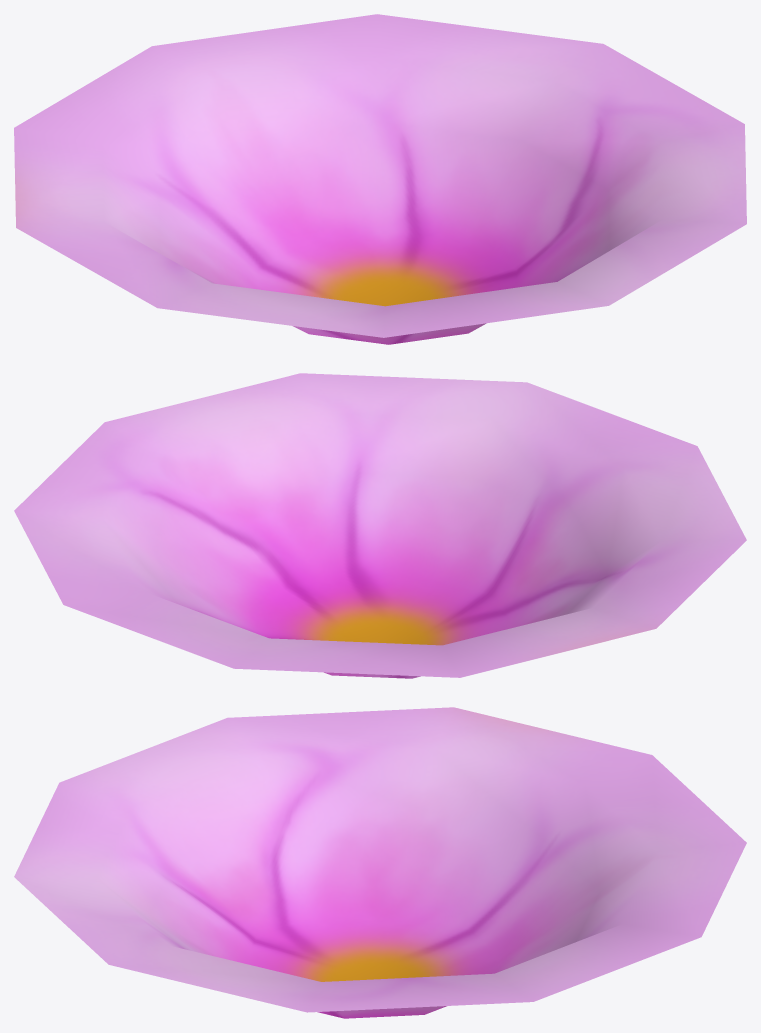
The model's file is Flower.FBX.
The picture shows the model from 3 angles, top to bottom: view 1: azimuth 30°, elevation 25°; view 2: azimuth 150°, elevation 25°; view 3: azimuth 270°, elevation 25°; orthographic projection. The views are drawn at different scales.
Parts seen in each view (by area): view 1: Flower; view 2: Flower; view 3: Flower.
Part boxes in pixels (bbox=[...]): Flower: bbox=[14, 14, 746, 344]; Flower: bbox=[14, 373, 746, 678]; Flower: bbox=[14, 707, 746, 1018].
Size of what is drawn, in the model's own units: 55.6 by 56.33 by 10.84.
